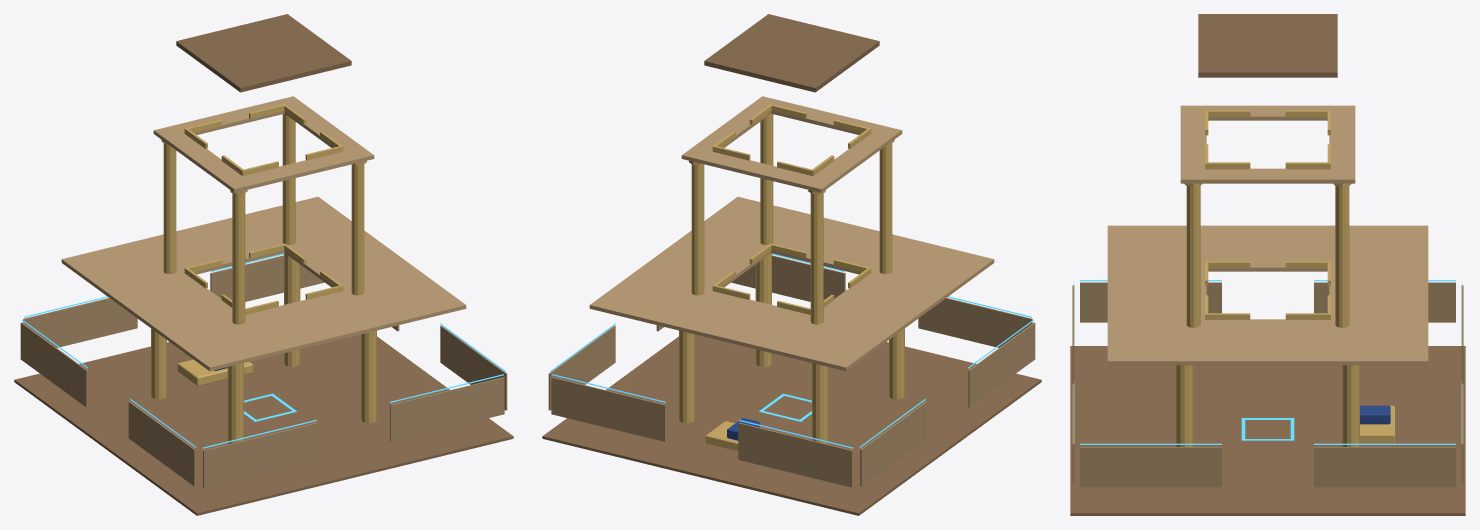
The model's file is 03_sun_king_interior.glb.
3 renders of one model, left to right at view 1: azimuth 30°, elevation 25°; view 2: azimuth 150°, elevation 25°; view 3: azimuth 270°, elevation 25°, orthographic. The views are drawn at different scales.
Visible parts, largest first — view 1: king_galleries, king_floor, king_reliefs_nocol_noshadow, king_columns, king_ceiling, king_balustrades, king_glow_nocol_noshadow, king_dais; view 2: king_galleries, king_floor, king_reliefs_nocol_noshadow, king_columns, king_ceiling, king_balustrades, king_glow_nocol_noshadow, king_dais; view 3: king_floor, king_galleries, king_reliefs_nocol_noshadow, king_ceiling, king_columns, king_balustrades, king_glow_nocol_noshadow, king_dais, king_sarcophagus.
Part boxes in pixels (x1=…): king_galleries: x1=61, y1=96, x2=466, y2=371; king_floor: x1=14, y1=334, x2=513, y2=515; king_reliefs_nocol_noshadow: x1=20, y1=255, x2=507, y2=487; king_columns: x1=151, y1=113, x2=376, y2=444; king_ceiling: x1=176, y1=14, x2=351, y2=92; king_balustrades: x1=184, y1=104, x2=343, y2=314; king_glow_nocol_noshadow: x1=22, y1=253, x2=505, y2=448; king_dais: x1=177, y1=359, x2=253, y2=385; king_galleries: x1=589, y1=96, x2=994, y2=371; king_floor: x1=542, y1=334, x2=1041, y2=515; king_reliefs_nocol_noshadow: x1=548, y1=255, x2=1035, y2=487; king_columns: x1=679, y1=113, x2=904, y2=444; king_ceiling: x1=704, y1=14, x2=879, y2=92; king_balustrades: x1=712, y1=104, x2=871, y2=314; king_glow_nocol_noshadow: x1=550, y1=253, x2=1033, y2=448; king_dais: x1=705, y1=421, x2=738, y2=451; king_floor: x1=1070, y1=346, x2=1465, y2=515; king_galleries: x1=1107, y1=105, x2=1428, y2=365; king_reliefs_nocol_noshadow: x1=1072, y1=282, x2=1463, y2=487; king_ceiling: x1=1198, y1=14, x2=1337, y2=77; king_columns: x1=1176, y1=183, x2=1359, y2=446; king_balustrades: x1=1205, y1=110, x2=1330, y2=319; king_glow_nocol_noshadow: x1=1074, y1=280, x2=1461, y2=444; king_dais: x1=1360, y1=405, x2=1394, y2=443; king_sarcophagus: x1=1360, y1=405, x2=1390, y2=424.
Bounding box in the file's own units: 90.27 × 98 × 90.27.
